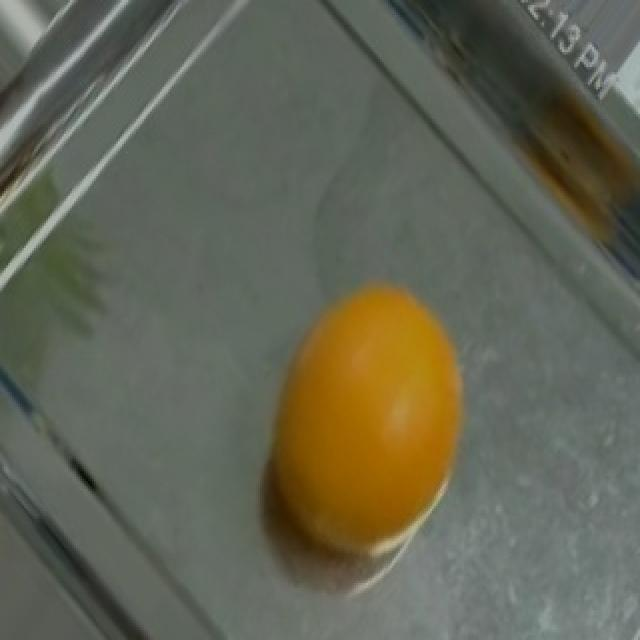Fruit: (240, 263, 492, 610)
